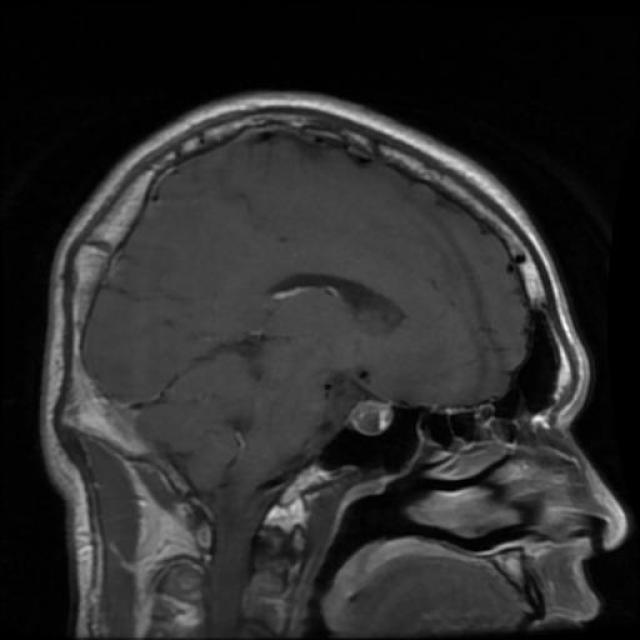pituitary: (341, 385, 408, 458)
